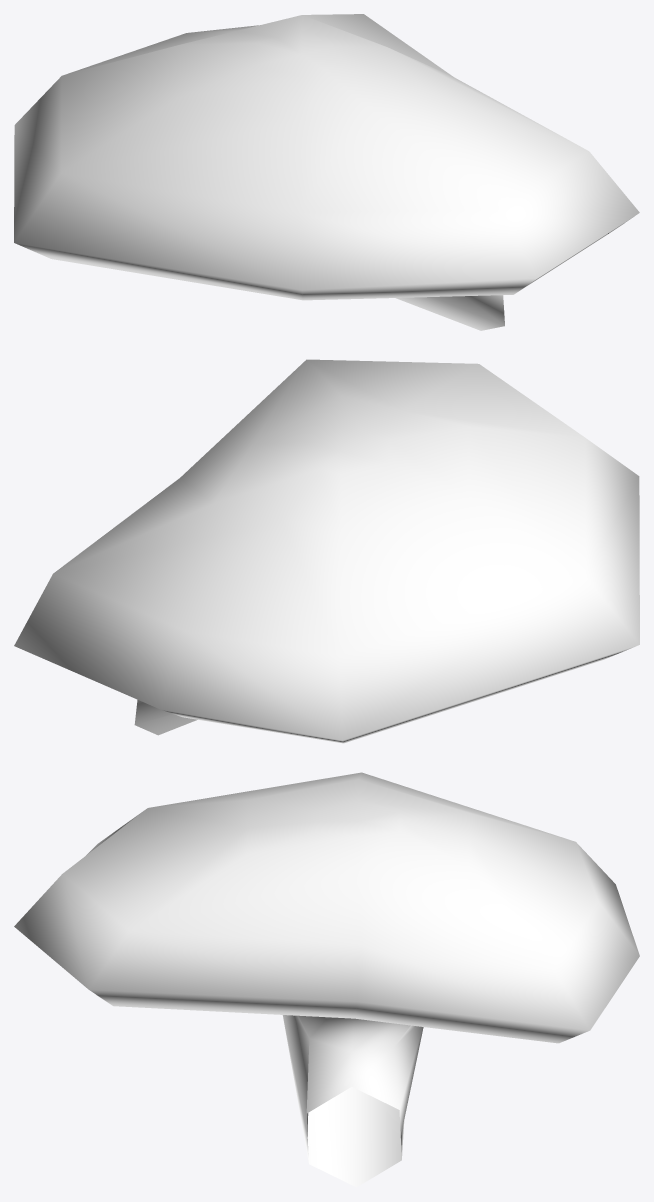
File: MushroomTree2.fbx
3 views of the same model, one above another, from view 1: azimuth 30°, elevation 25°; view 2: azimuth 150°, elevation 25°; view 3: azimuth 270°, elevation 25° (orthographic). The views are drawn at different scales.
Visible parts, largest first — view 1: MushroomTree2; view 2: MushroomTree2; view 3: MushroomTree2.
Boxes of the visible parts, x1,y1,x2,y2 form: MushroomTree2: [14, 14, 639, 330]; MushroomTree2: [14, 359, 639, 743]; MushroomTree2: [14, 772, 639, 1187].
Bounding box in the file's own units: 0.7826 × 0.5006 × 0.9876.
1 material, 1 textured.
